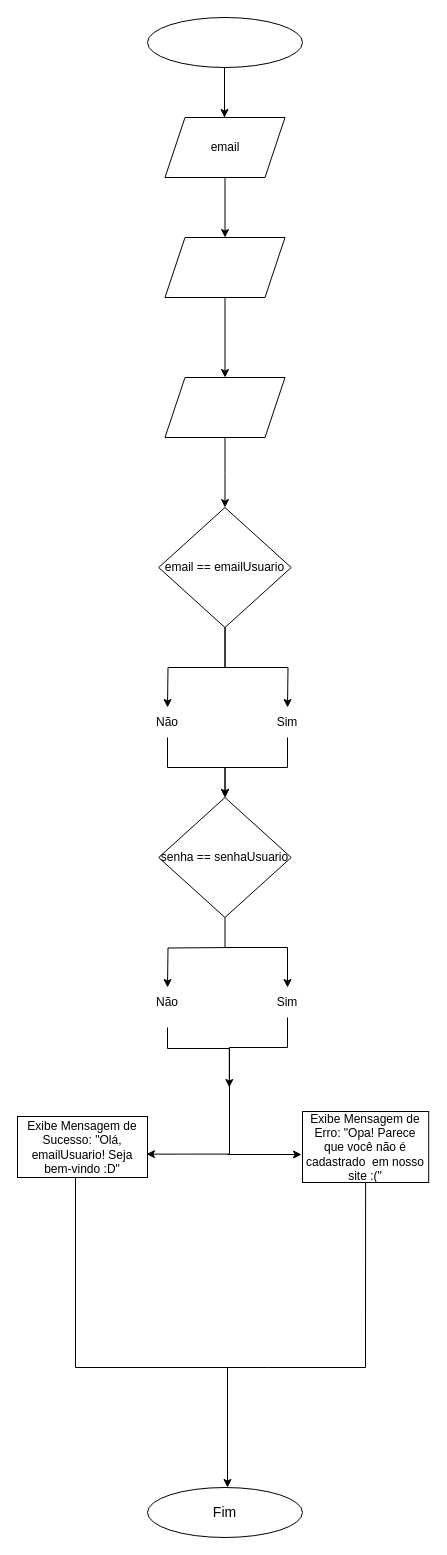
Some shapes in this 447 by 1555 pixel diagram are drawn without their labels. Each missing label, with the box of its shape:
Início: (146, 16, 302, 68)
mensagem: (164, 376, 285, 438)
senha: (164, 236, 285, 298)
